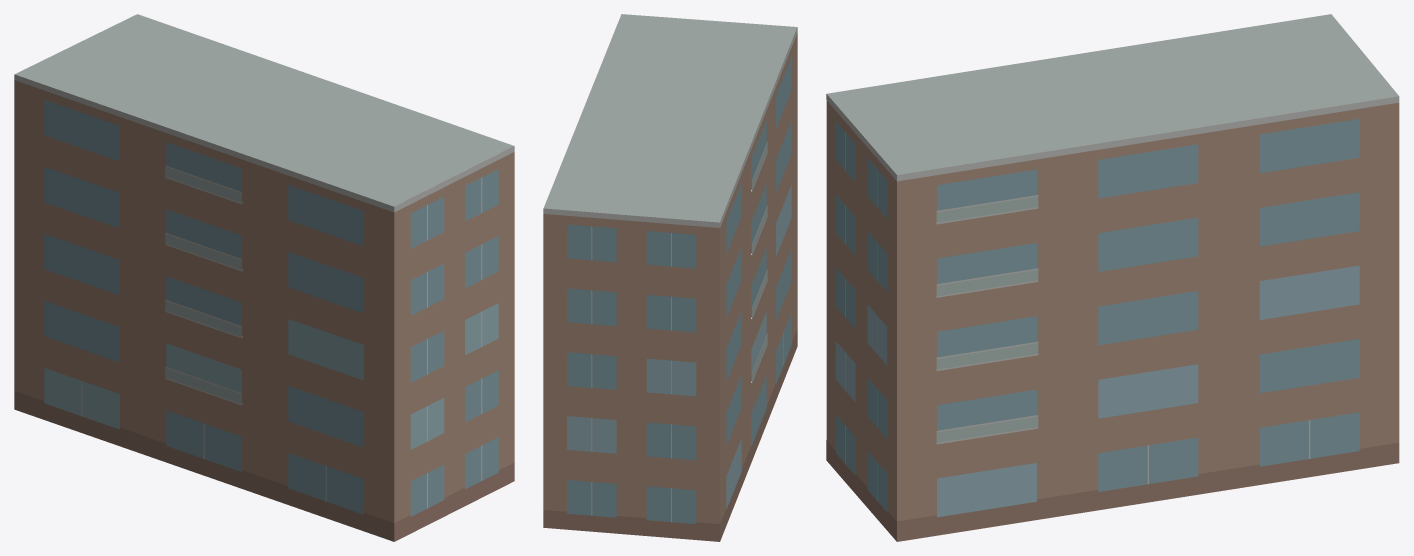
Rendered from survey-upis-32833782.glb.
The picture shows the model from 3 angles, left to right: view 1: azimuth 30°, elevation 25°; view 2: azimuth 150°, elevation 25°; view 3: azimuth 270°, elevation 25°; orthographic projection. The views are drawn at different scales.
Parts seen in each view (by area): view 1: survey-upis-32833782.tmp; view 2: survey-upis-32833782.tmp; view 3: survey-upis-32833782.tmp.
Boxes of the visible parts, box(x1,y1,x2,y2) form: survey-upis-32833782.tmp: box(14, 14, 514, 541); survey-upis-32833782.tmp: box(543, 14, 797, 541); survey-upis-32833782.tmp: box(826, 14, 1399, 541).
Size of the model in its own units: 13.49 by 14.3 by 20.26.
